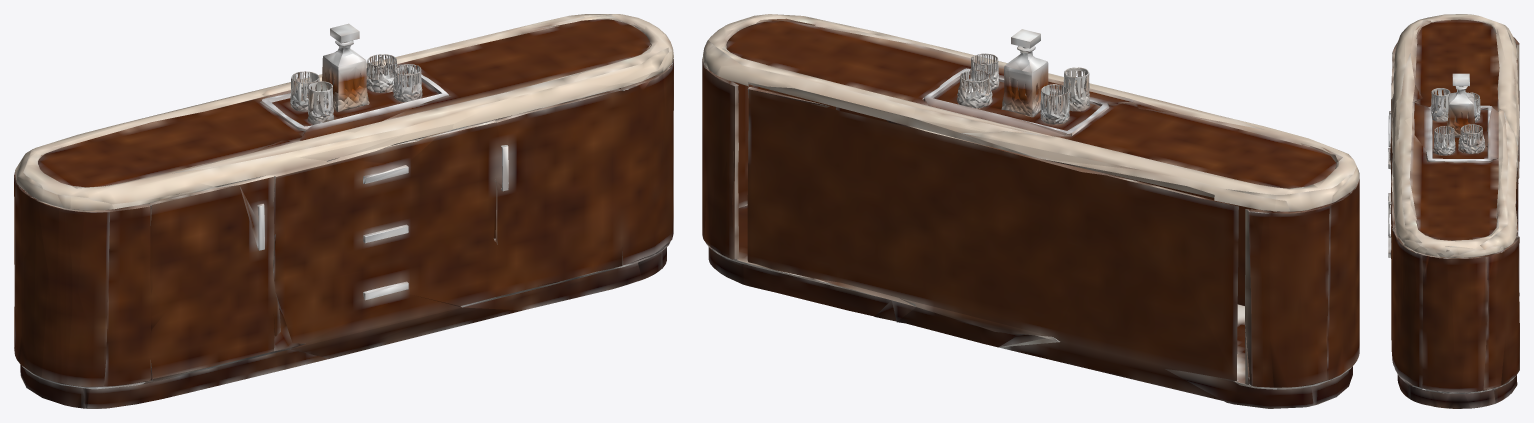
The model's file is cab_credenza.glb.
3 views of the same model, side by side, from view 1: azimuth 30°, elevation 25°; view 2: azimuth 150°, elevation 25°; view 3: azimuth 270°, elevation 25° (orthographic). The views are drawn at different scales.
Parts seen in each view (by area): view 1: LO; view 2: LO; view 3: LO.
Part boxes in pixels (<box>): LO: <box>14,14,673,408</box>; LO: <box>702,14,1359,408</box>; LO: <box>1388,14,1519,408</box>.
Size of the model in its own units: 1.87 by 0.7994 by 0.4402.
1 material, 1 textured.
